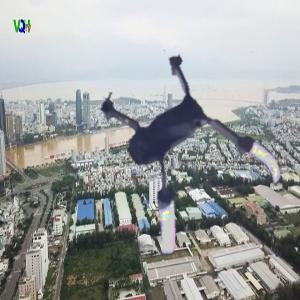drone: (63, 40, 288, 265)
